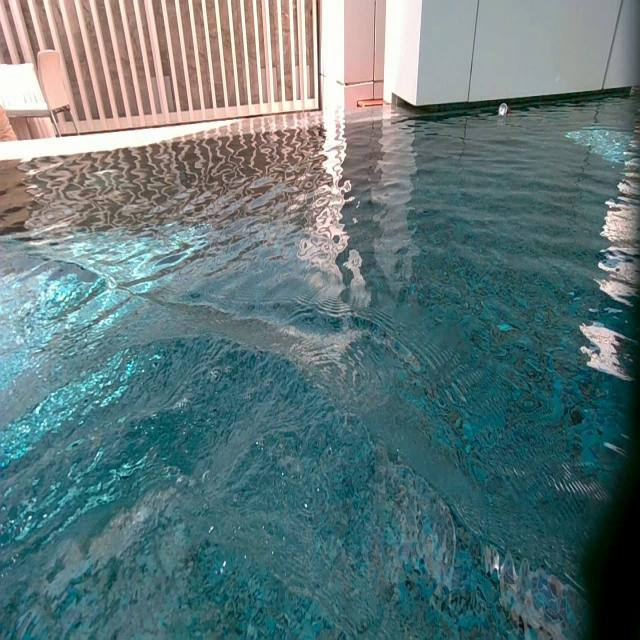Cans: (497, 102, 509, 116)
